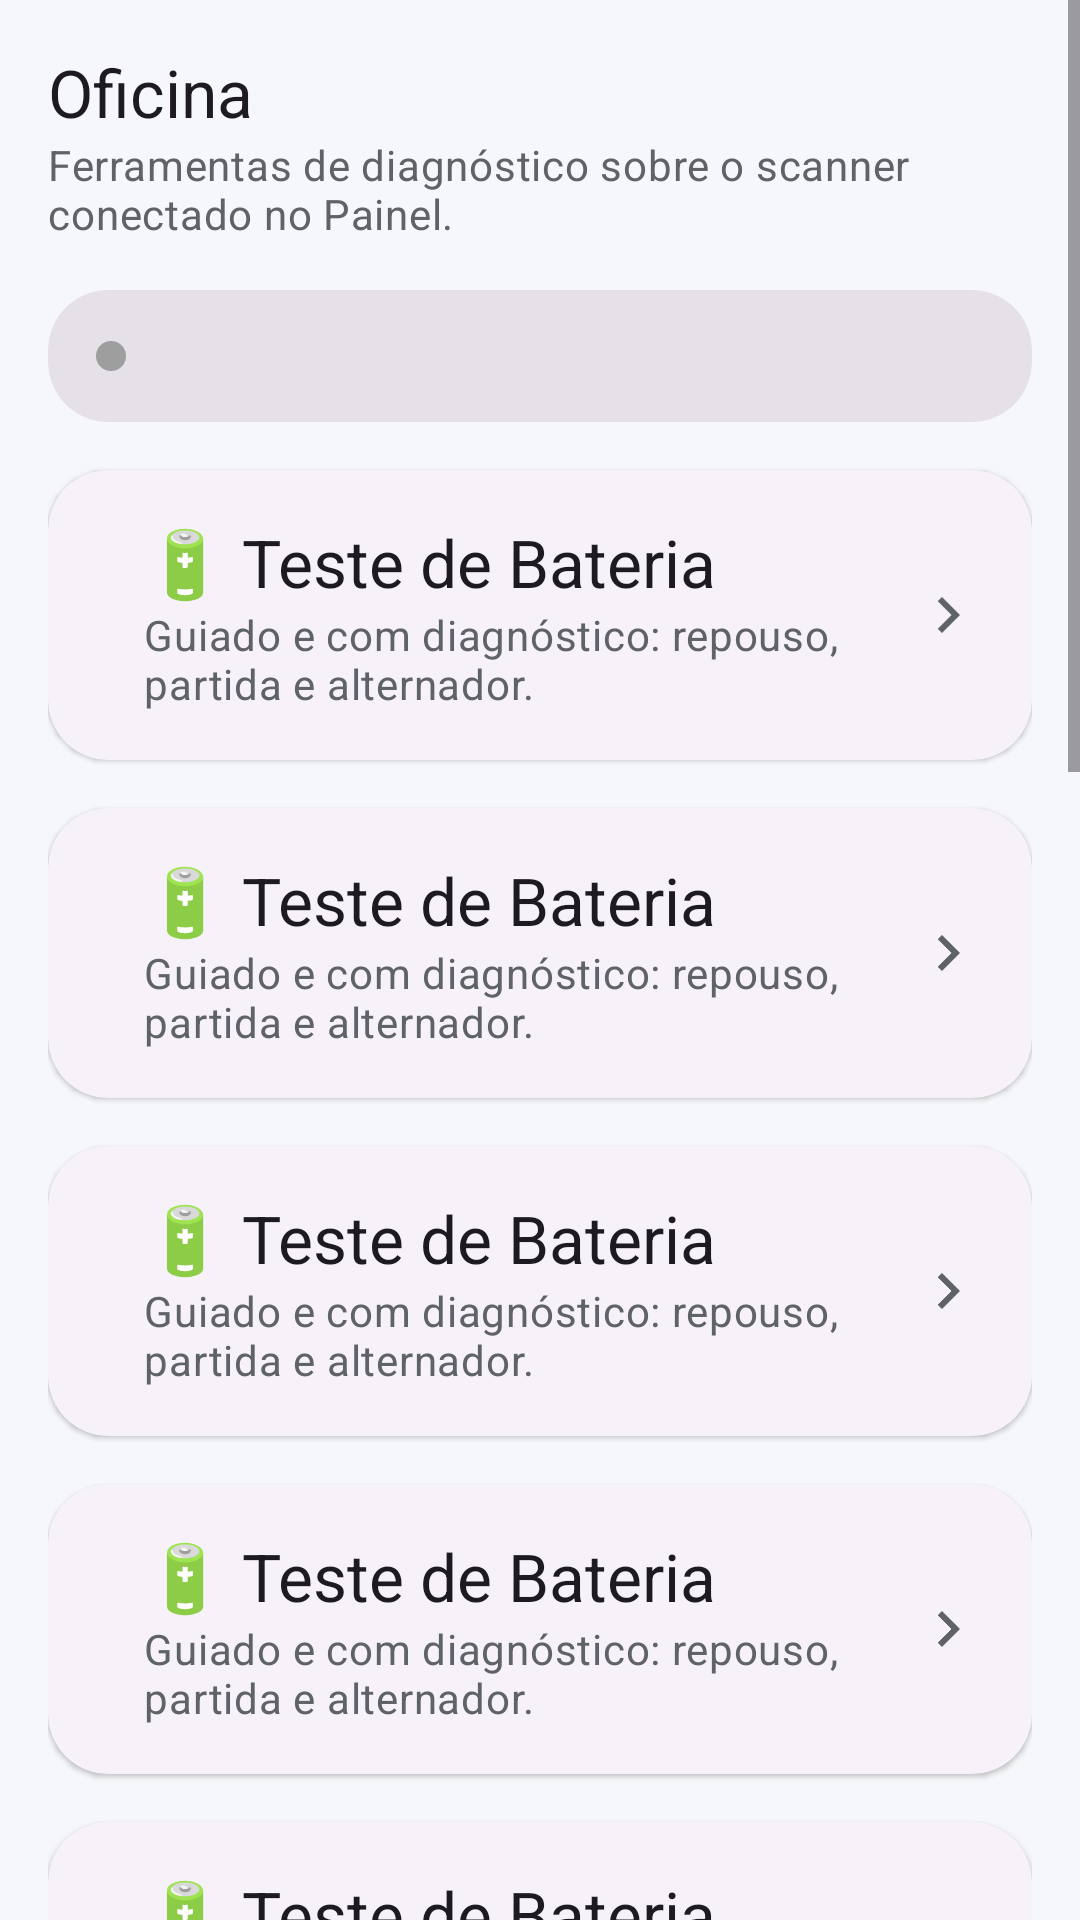

Screen size 1080 × 1920. Icon name, then its box in pixels as rect(x1, y1, x2, y2):
chevron: rect(938, 597, 960, 633), rect(938, 935, 960, 971), rect(938, 1273, 960, 1309), rect(938, 1611, 960, 1647)
ponto status: rect(96, 341, 126, 371)
